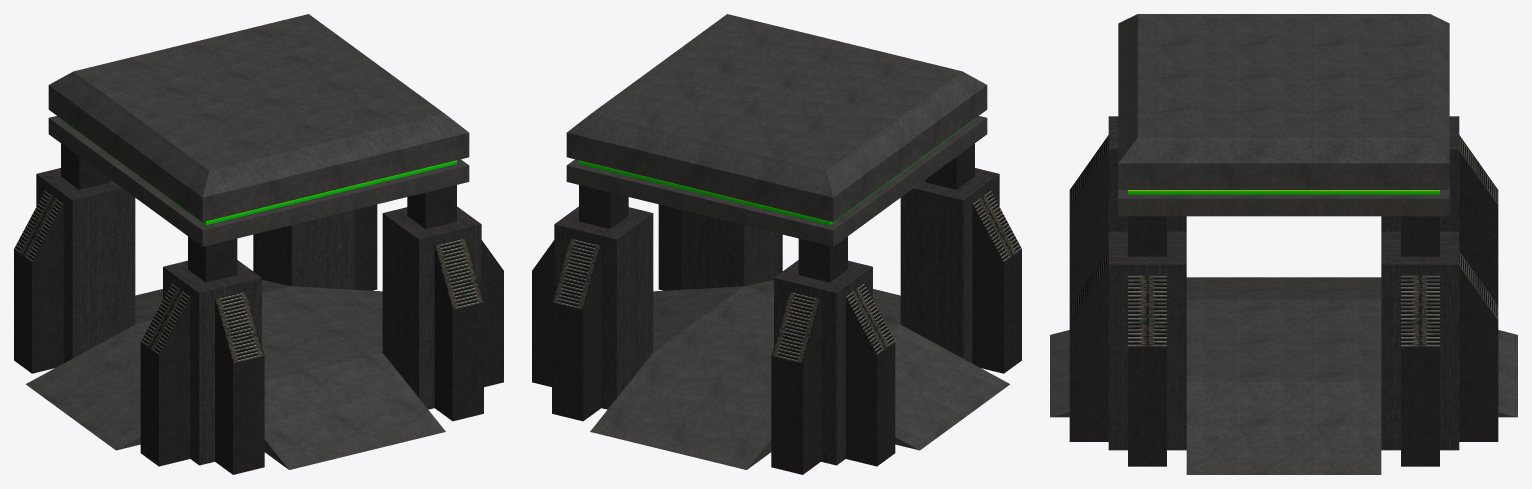
Rendered from miraflag_base.fbx.
3 renders of one model, left to right at view 1: azimuth 30°, elevation 25°; view 2: azimuth 150°, elevation 25°; view 3: azimuth 270°, elevation 25°, orthographic. The views are drawn at different scales.
Visible parts, largest first — view 1: Object; view 2: Object; view 3: Object.
Part boxes in pixels (x1,y1,x2,y2): Object: [14, 14, 503, 474]; Object: [532, 14, 1021, 474]; Object: [1050, 14, 1517, 474].
Bounding box in the file's own units: 4800 × 3400 × 4800.
